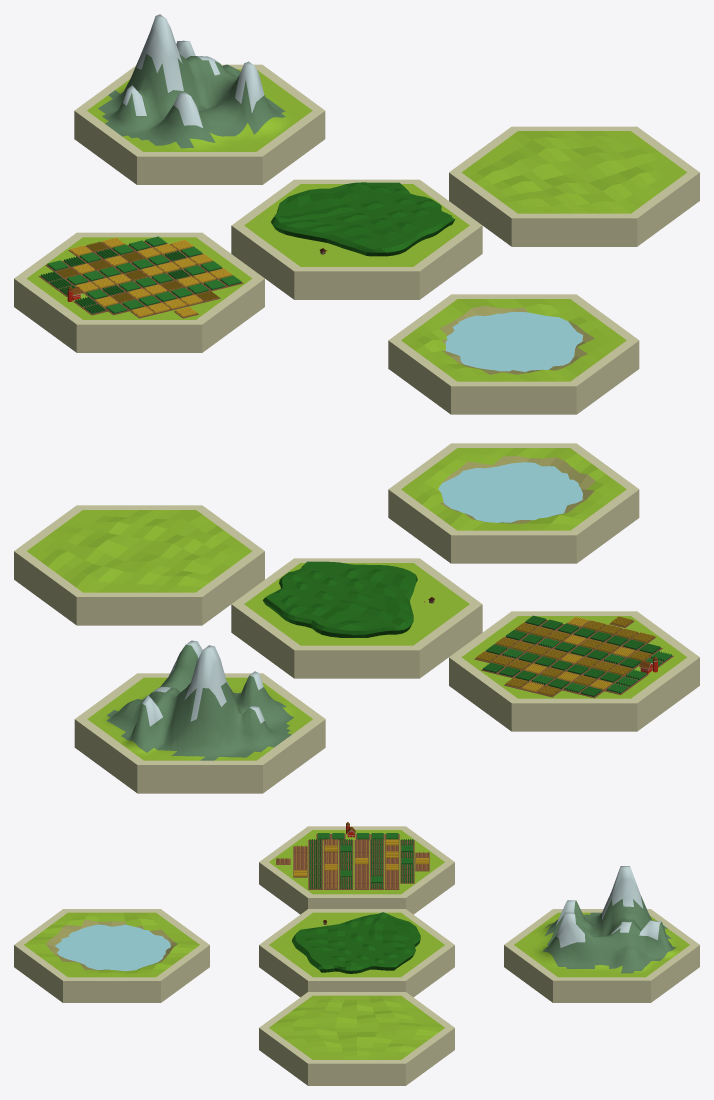
File: Paraglide Landscape.fbx
The picture shows the model from 3 angles, top to bottom: view 1: azimuth 30°, elevation 25°; view 2: azimuth 150°, elevation 25°; view 3: azimuth 270°, elevation 25°; orthographic projection. The views are drawn at different scales.
Visible parts, largest first — view 1: Cylinder, Cylinder.003, Cylinder.001, Farm Ground, Cylinder.002; view 2: Cylinder, Cylinder.003, Cylinder.001, Cylinder.002, Farm Ground; view 3: Cylinder, Cylinder.003, Cylinder.002, Farm Ground, Cylinder.001.
Part boxes in pixels (x1,y1,x2,y2): Cylinder: (74, 14, 325, 184); Cylinder.003: (388, 294, 639, 414); Cylinder.001: (231, 179, 482, 299); Farm Ground: (14, 232, 264, 352); Cylinder.002: (449, 126, 699, 246); Cylinder: (74, 640, 325, 793); Cylinder.003: (388, 443, 639, 563); Cylinder.001: (231, 558, 482, 678); Cylinder.002: (14, 505, 264, 625); Farm Ground: (449, 611, 699, 731); Cylinder: (504, 866, 699, 1002); Cylinder.003: (14, 909, 209, 1002); Cylinder.002: (259, 992, 454, 1085); Farm Ground: (259, 822, 454, 914); Cylinder.001: (259, 909, 454, 997).
Size of the model in its own units: 2293 by 410 by 2800.
